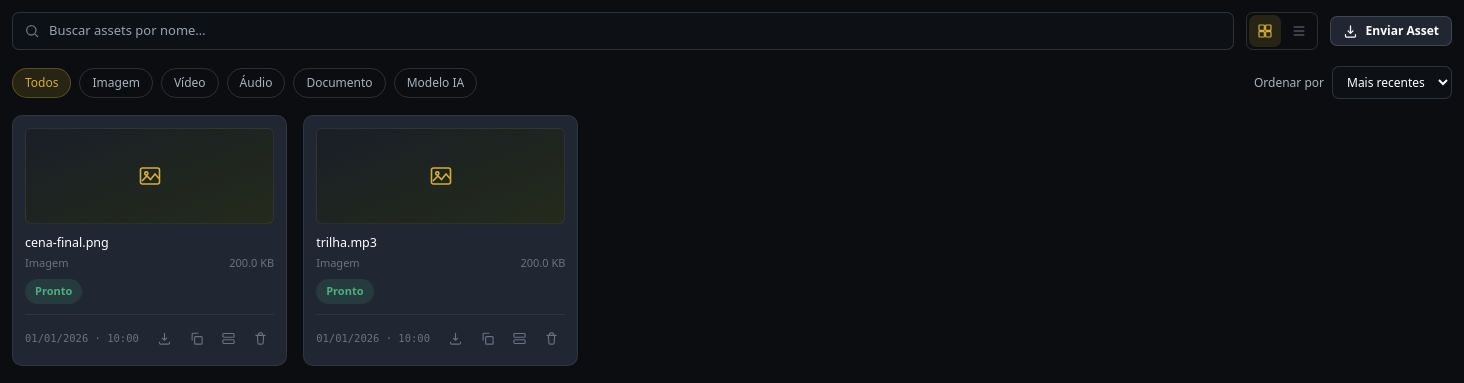
Test: AssetLibrary › filtra por busca (nome)
Check: the text "cena-final.png" is shown, box [25, 234, 109, 251]
Type "trilha" into the field with placeholder "Buscar assets por nome…" at (623, 31), box [12, 12, 1234, 50]
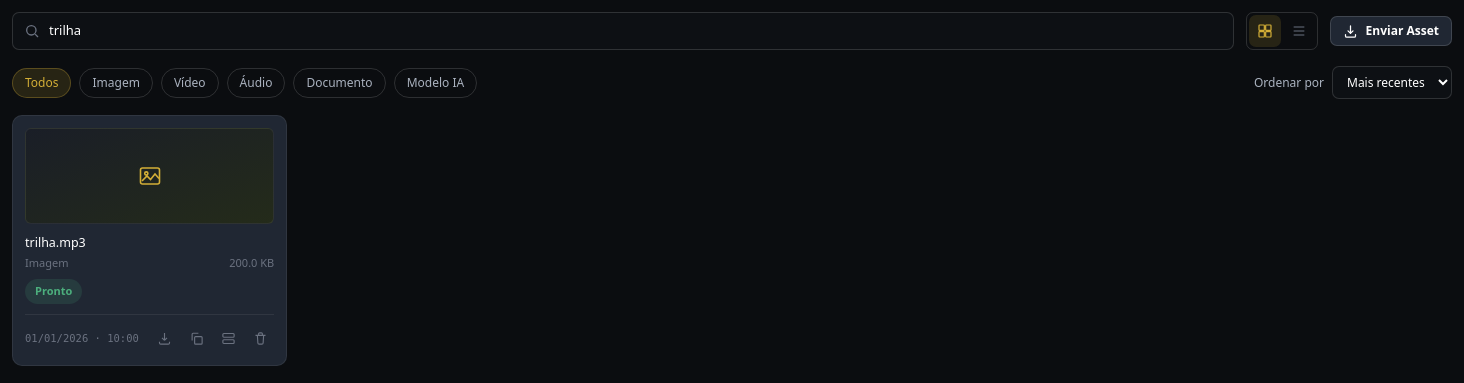
Check: the text "trilha.mp3" is shown, box [25, 234, 86, 251]
Check: the button "cena-final.png" is gone
